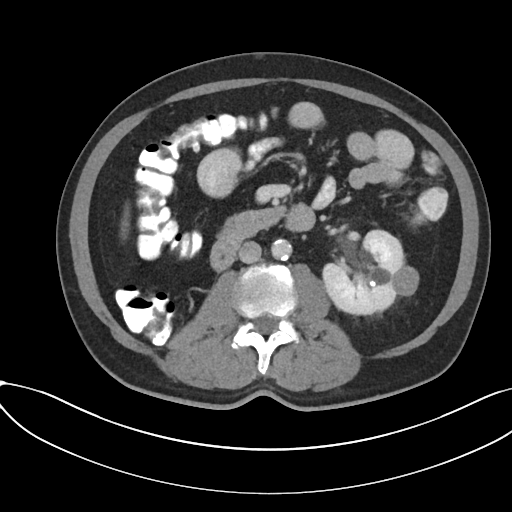Lesion: (389, 264, 422, 297)
